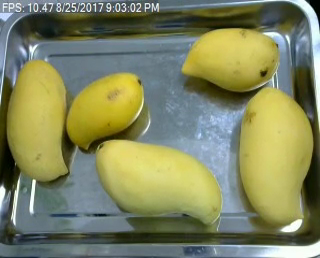Mango: (93, 133, 227, 228), (234, 89, 312, 225), (1, 55, 70, 187), (181, 25, 282, 89), (65, 73, 147, 151)
